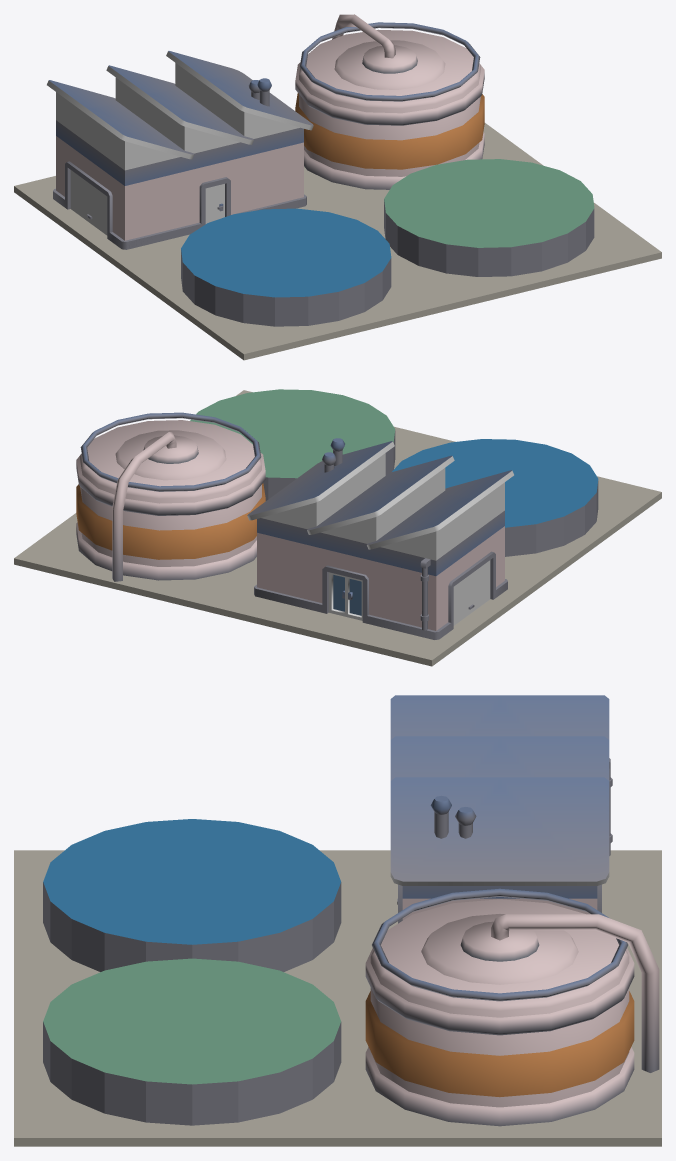
Rendered from wastewater.glb.
3 views of the same model, one above another, from view 1: azimuth 30°, elevation 25°; view 2: azimuth 150°, elevation 25°; view 3: azimuth 270°, elevation 25° (orthographic). The views are drawn at different scales.
Visible parts, largest first — view 1: wastewater; view 2: wastewater; view 3: wastewater.
Part boxes in pixels (x1,y1,x2,y2): wastewater: (14, 14, 661, 360); wastewater: (14, 389, 661, 666); wastewater: (14, 695, 661, 1146).
Bounding box in the file's own units: 0.92 × 0.2671 × 0.8762.
